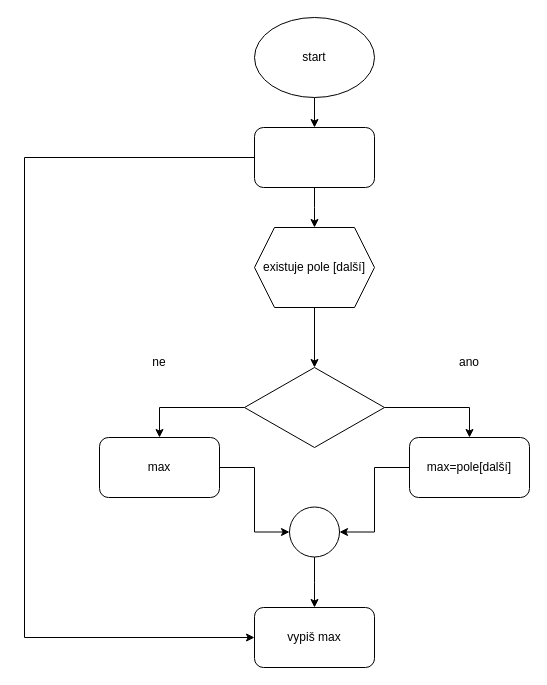
Image size: 547x685. Some labels were removed from this diagram. The centre of each missing label's shape, as x and y in pixels:
pole [další]<max: the point at 314,407
poleš,max=pole[0]: the point at 314,157
